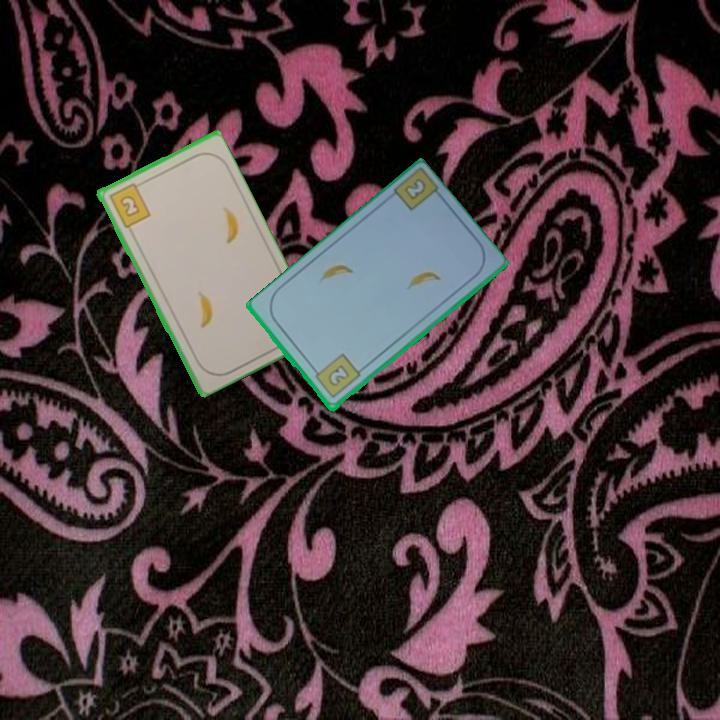2b: (309, 350, 363, 401), (105, 179, 153, 230), (401, 175, 429, 203)
